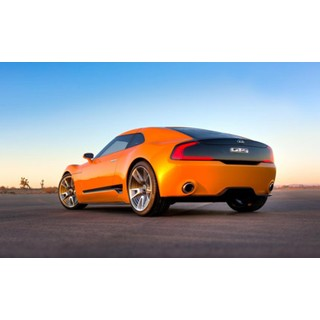car: (56, 126, 277, 216)
